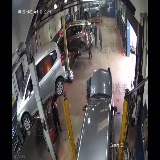fire: (44, 61, 52, 72)
